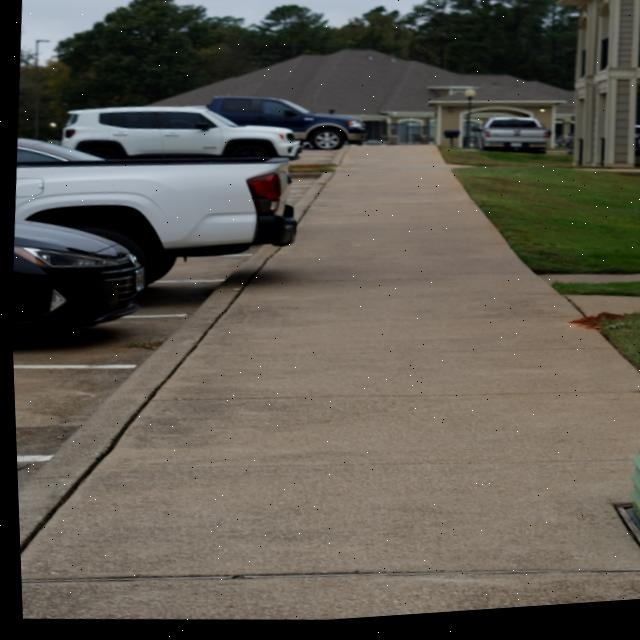Automobile: (9, 100, 365, 330), (474, 124, 547, 159)
Obstacle: (626, 450, 640, 535)
Road: (10, 258, 245, 489)
Sidewalk: (14, 151, 640, 624)
